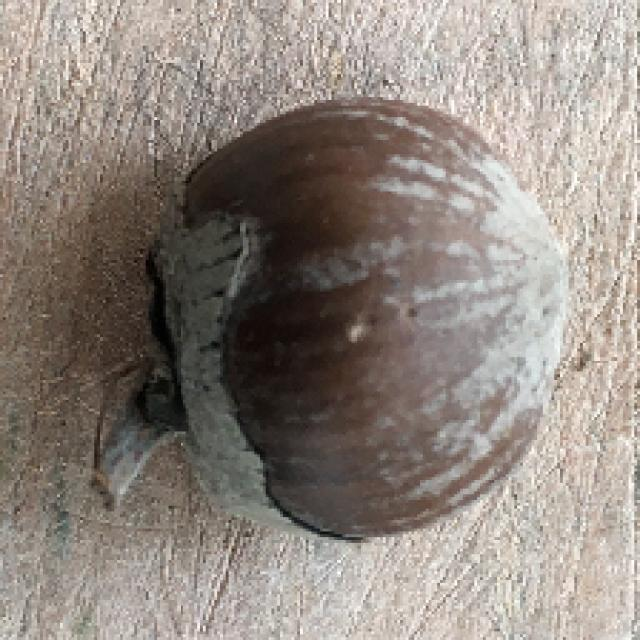DamagedHazelnut: (155, 100, 574, 539)
